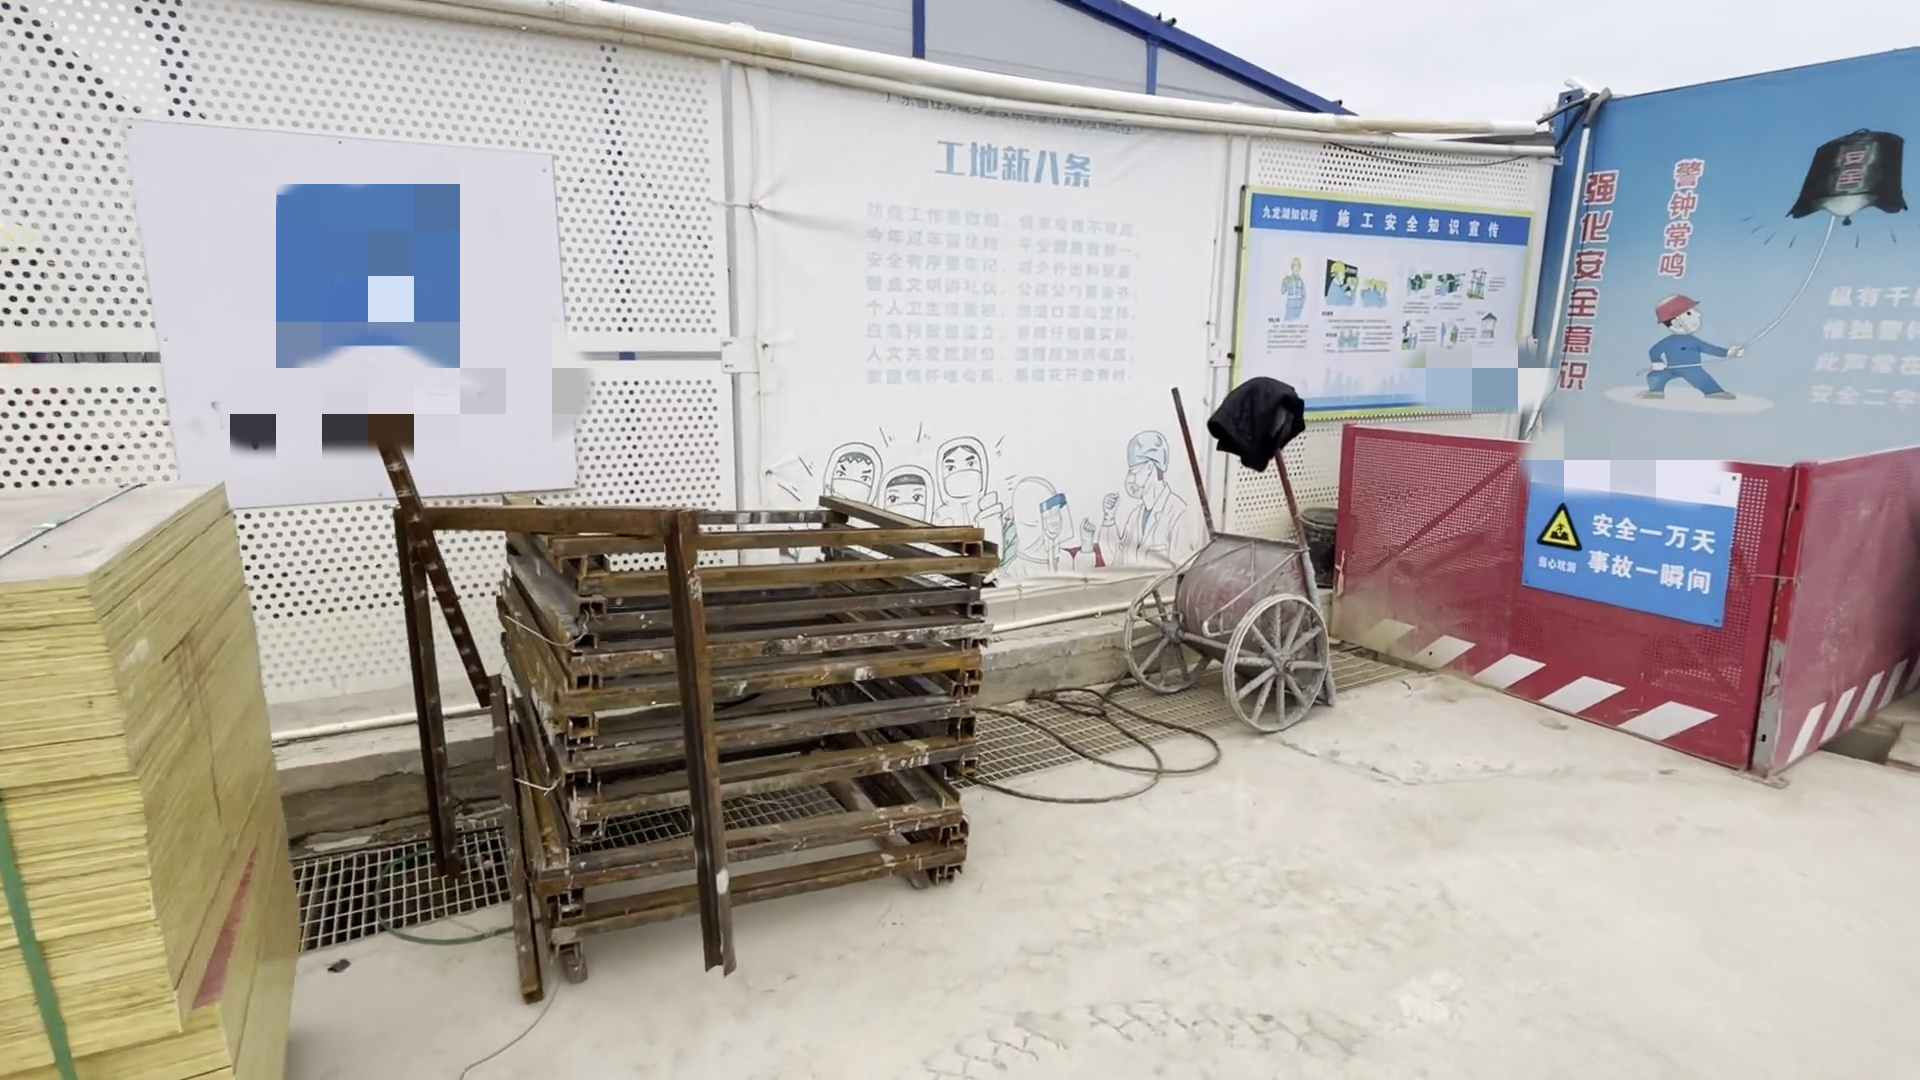handcart: (1130, 377, 1365, 762)
slogan: (1523, 462, 1730, 622)
